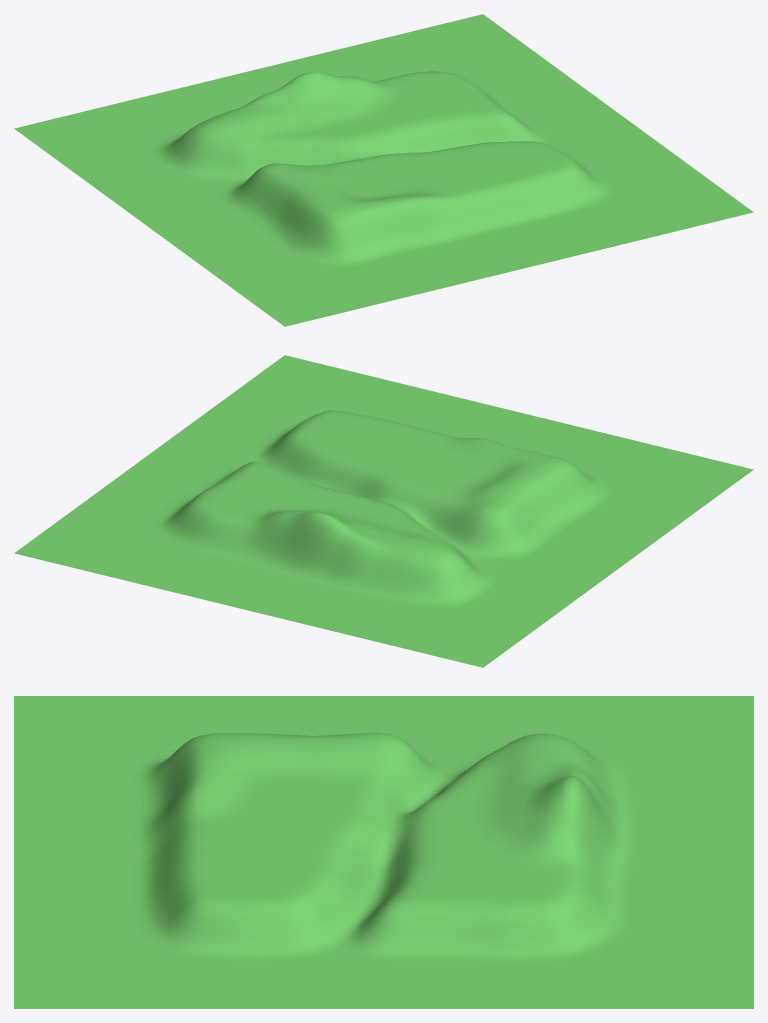
The model's file is Terrain.dae.
3 renders of one model, top to bottom at view 1: azimuth 30°, elevation 25°; view 2: azimuth 150°, elevation 25°; view 3: azimuth 270°, elevation 25°, orthographic. The views are drawn at different scales.
Parts seen in each view (by area): view 1: Объект_Рельеф; view 2: Объект_Рельеф; view 3: Объект_Рельеф.
Part boxes in pixels (x1,y1,x2,y2): Объект_Рельеф: (14, 14, 753, 326); Объект_Рельеф: (14, 355, 753, 667); Объект_Рельеф: (14, 696, 753, 1008).
Bounding box in the file's own units: 20000 × 2000 × 20000.
